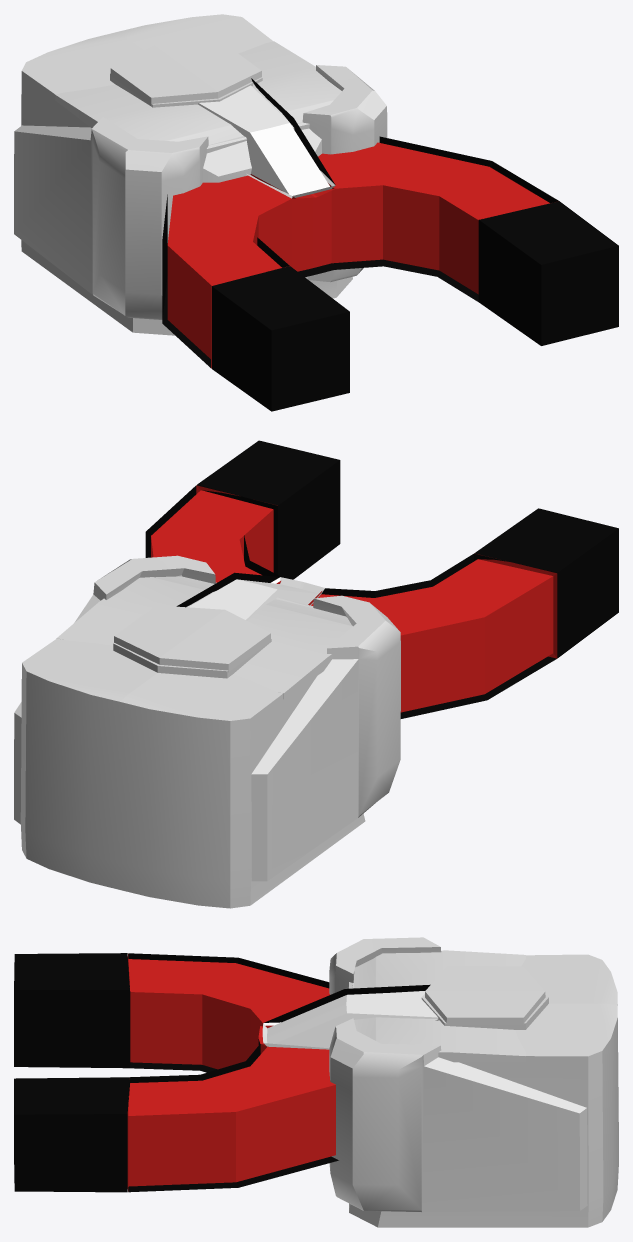
File: magnet.fbx
3 views of the same model, one above another, from view 1: azimuth 30°, elevation 25°; view 2: azimuth 150°, elevation 25°; view 3: azimuth 270°, elevation 25° (orthographic). The views are drawn at different scales.
Visible parts, largest first — view 1: Cube, Turret; view 2: Turret, Cube; view 3: Turret, Cube.
Boxes of the visible parts, <box> form: Cube: <box>162,78,618,411</box>; Turret: <box>14,14,387,335</box>; Turret: <box>14,555,400,908</box>; Cube: <box>145,440,618,718</box>; Turret: <box>329,937,618,1227</box>; Cube: <box>14,953,439,1192</box>.
Bounding box in the file's own units: 118 × 40.16 × 74.15.
